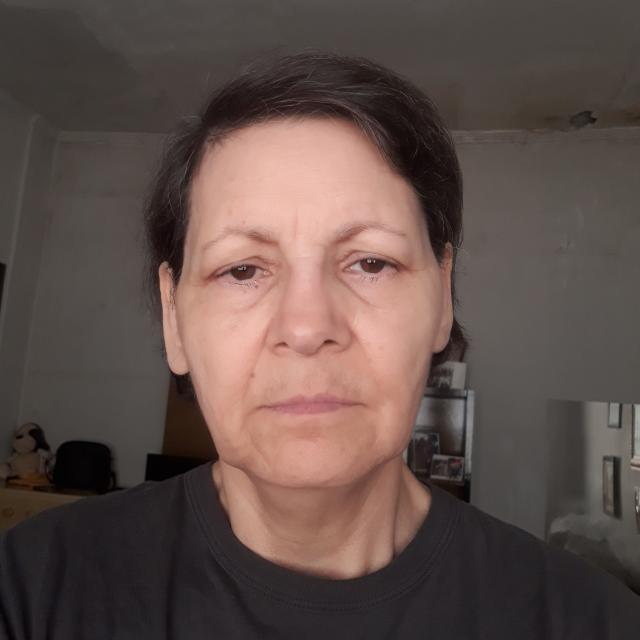eyebrow: (200, 225, 280, 249), (335, 217, 406, 241)
